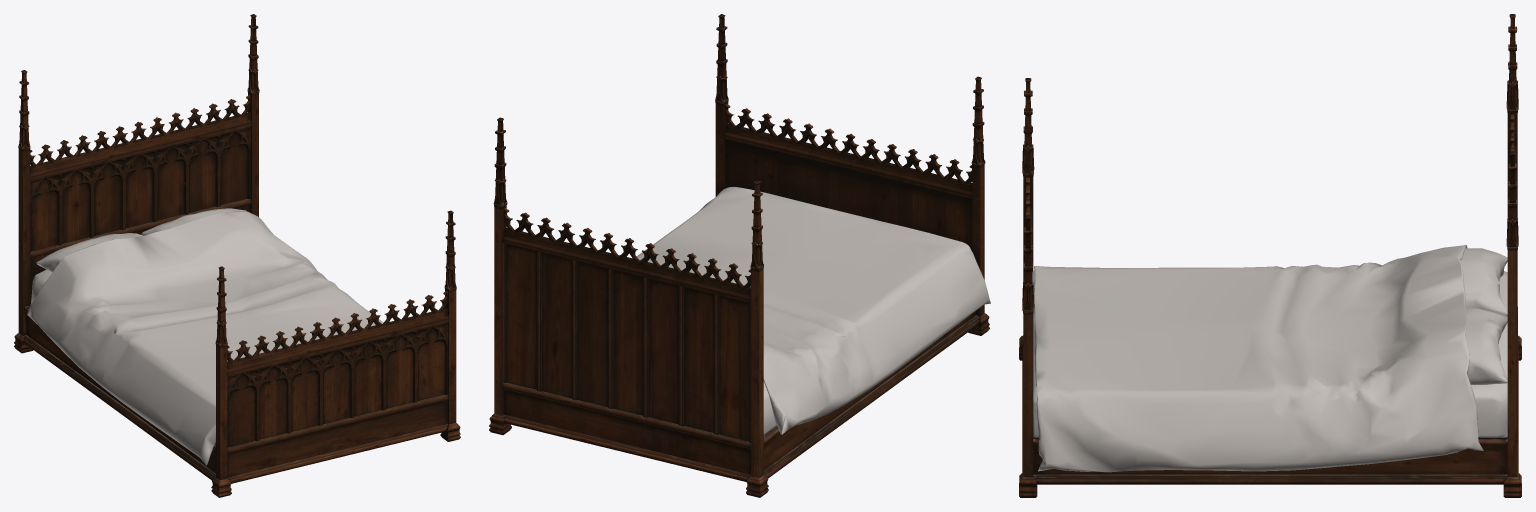
Rendered from GothicBed_01.glb.
3 renders of one model, left to right at view 1: azimuth 30°, elevation 25°; view 2: azimuth 150°, elevation 25°; view 3: azimuth 270°, elevation 25°, orthographic. The views are drawn at different scales.
Visible parts, largest first — view 1: GothicBed_01; view 2: GothicBed_01; view 3: GothicBed_01.
Boxes of the visible parts, box(x1,y1,x2,y2) form: GothicBed_01: box(14, 14, 460, 497); GothicBed_01: box(489, 14, 990, 497); GothicBed_01: box(1019, 14, 1521, 497).
Size of the model in its own units: 1.49 by 1.53 by 2.04.
1 material, 1 textured.
